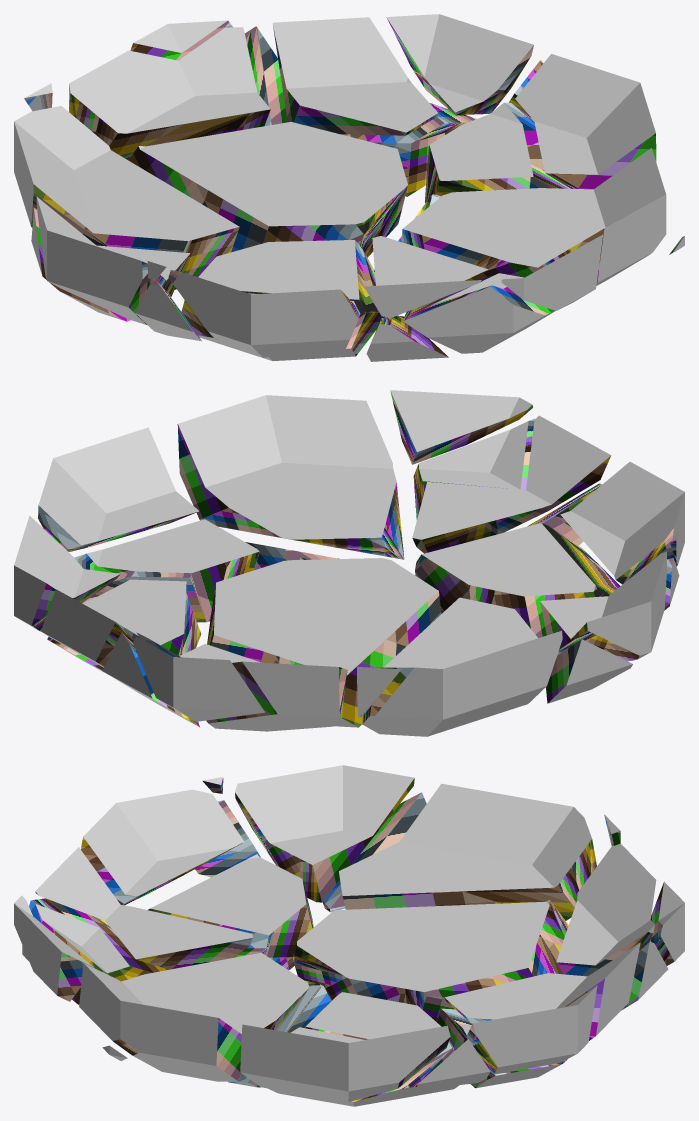
The model's file is plateWeaponShattered.glb.
3 views of the same model, one above another, from view 1: azimuth 30°, elevation 25°; view 2: azimuth 150°, elevation 25°; view 3: azimuth 270°, elevation 25° (orthographic). The views are drawn at different scales.
Parts seen in each view (by area): view 1: Cylinder_cell; view 2: Cylinder_cell; view 3: Cylinder_cell.
Boxes of the visible parts, x1,y1,x2,y2 form: Cylinder_cell: [14, 14, 684, 361]; Cylinder_cell: [14, 390, 684, 736]; Cylinder_cell: [14, 765, 684, 1106].
Bounding box in the file's own units: 2.85 × 0.4808 × 2.91.
Materials: 1 (1 with a texture image).
